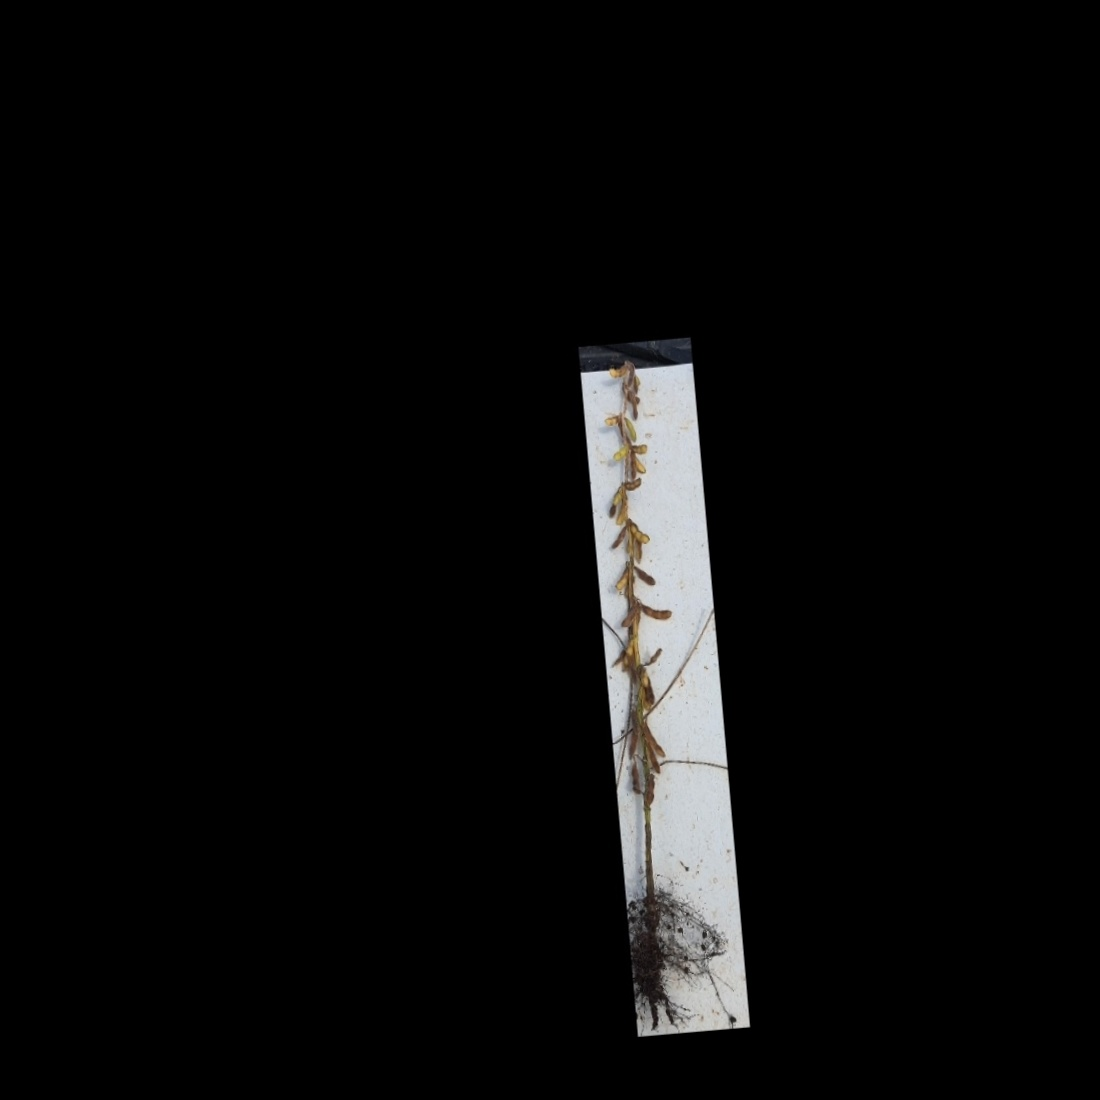pod: (639, 598, 675, 626), (604, 523, 629, 556), (629, 518, 652, 547), (633, 564, 658, 587), (645, 743, 662, 777), (623, 415, 639, 445), (611, 565, 630, 591), (605, 360, 627, 382), (603, 407, 622, 432), (624, 475, 642, 493)
soy: (583, 346, 730, 993)
